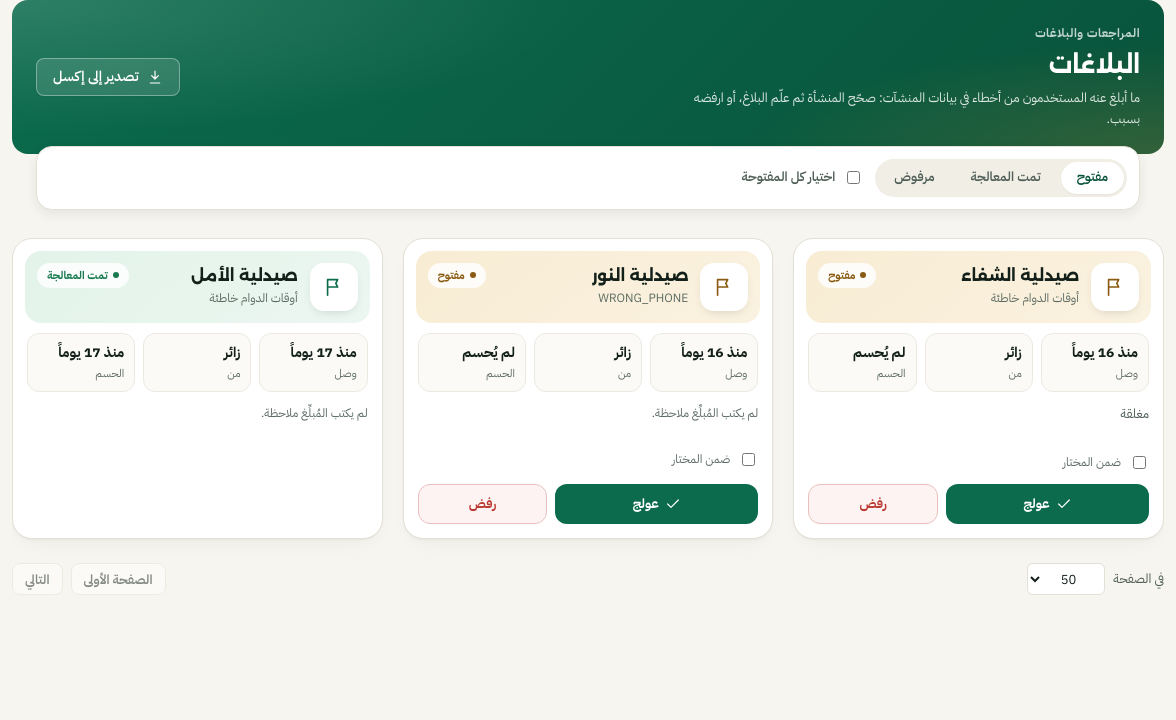
deciding many reports at once › says nothing until something is ticked, then says how many
Check: the link "صيدلية الشفاء" is shown, box [961,266,1079,285]
Click the checkbox with test id "select-r-1" at [1140, 463], box [1133,456,1146,469]
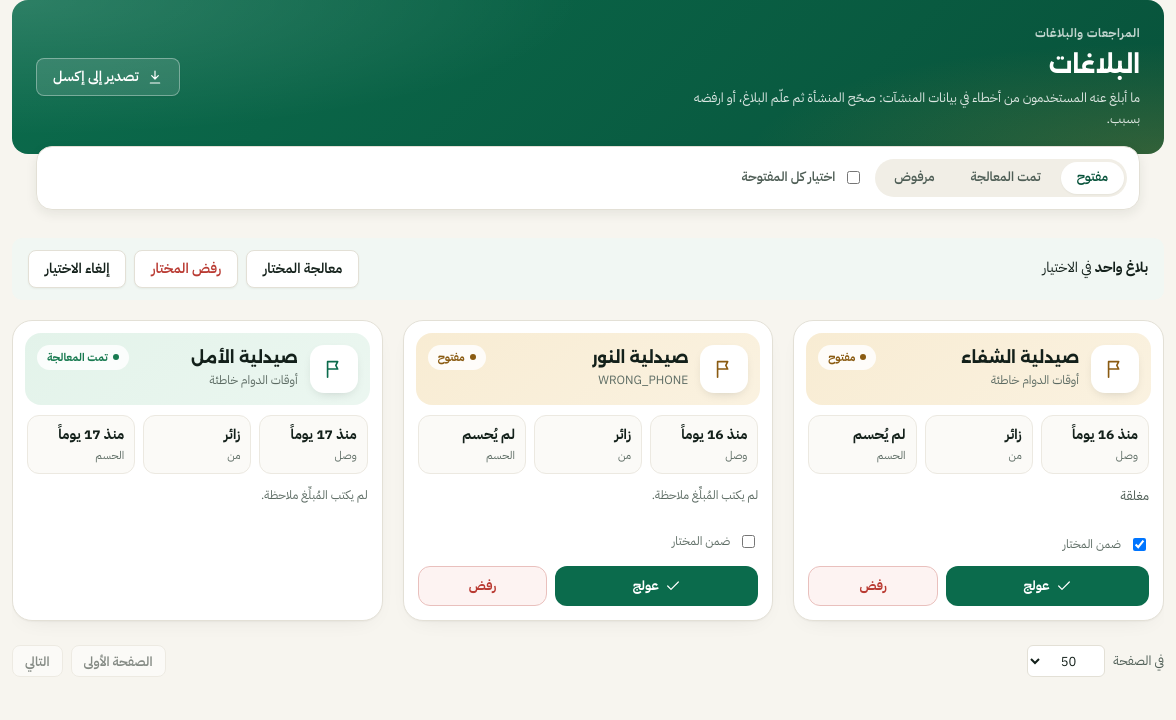
Check: the element with test id "bulk-bar" shows "بلاغ واحد", box [1095,257,1148,278]
